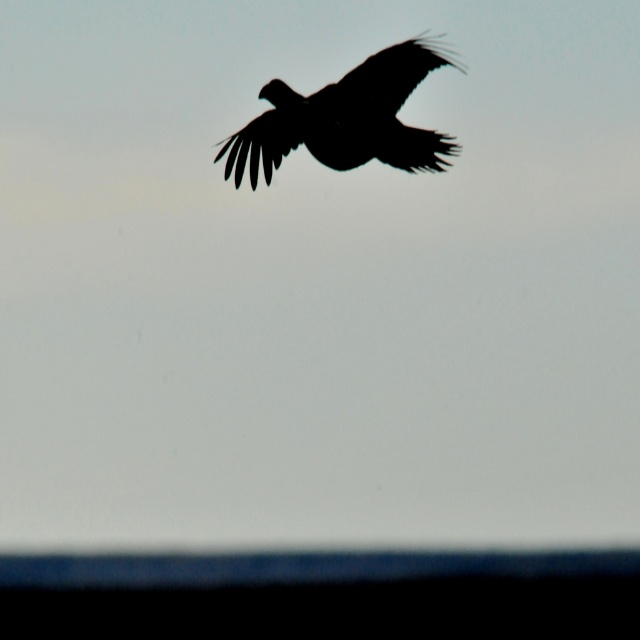Raven: (227, 37, 441, 179)
